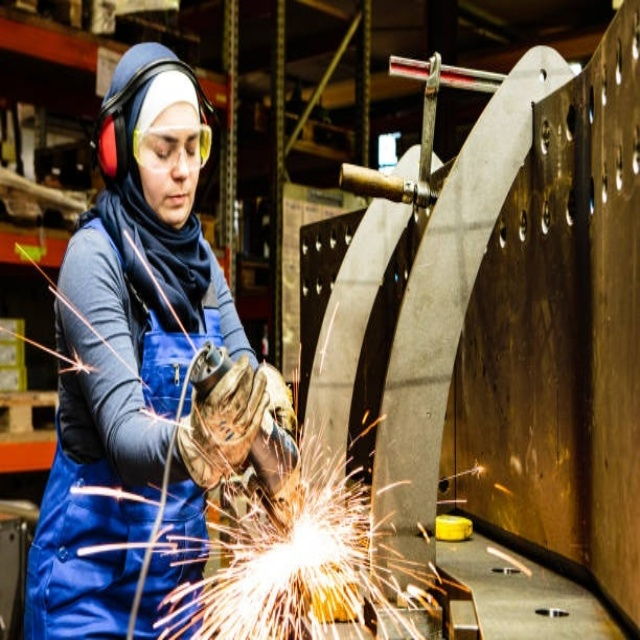Gafas: (133, 126, 214, 173)
Guantes: (174, 344, 270, 487), (252, 361, 297, 446)
Sin_mascara: (159, 185, 191, 215)
